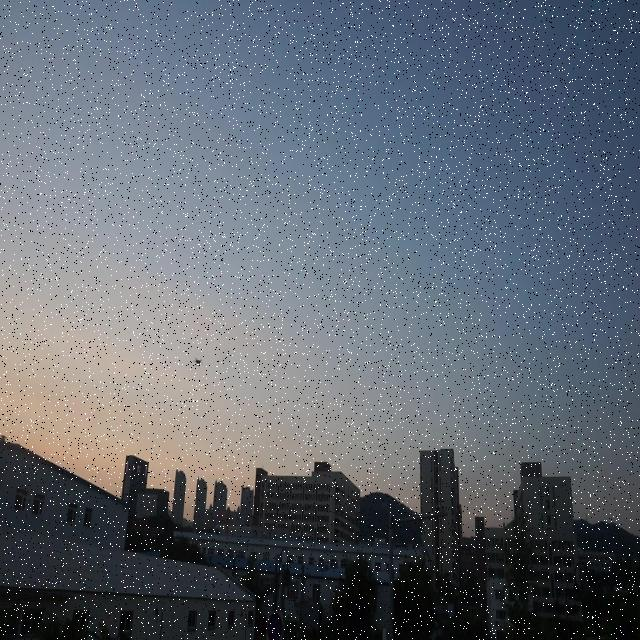UAV: (193, 358, 204, 368)
